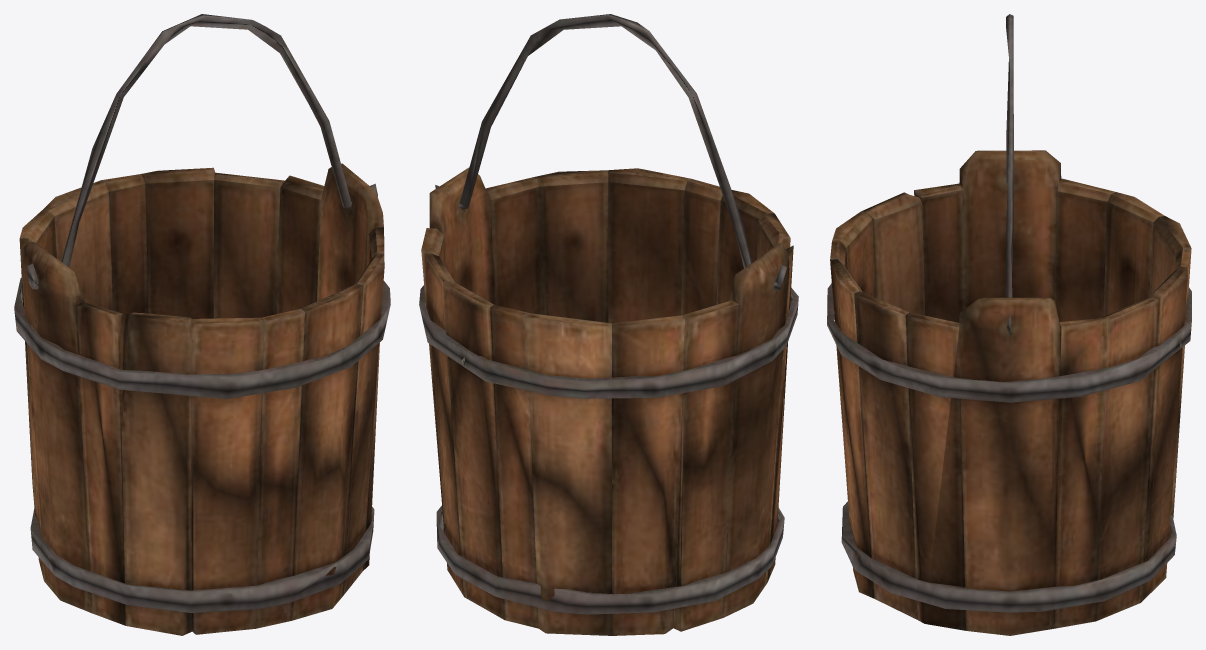
File: wooden_bucket_01.glb
The picture shows the model from 3 angles, left to right: view 1: azimuth 30°, elevation 25°; view 2: azimuth 150°, elevation 25°; view 3: azimuth 270°, elevation 25°; orthographic projection. The views are drawn at different scales.
Visible parts, largest first — view 1: wooden_bucket_01, wooden_bucket_01_handle; view 2: wooden_bucket_01, wooden_bucket_01_handle; view 3: wooden_bucket_01, wooden_bucket_01_handle.
Boxes of the visible parts, left/top/right/bottom form: wooden_bucket_01: left=14, top=163, right=390, bottom=635; wooden_bucket_01_handle: left=26, top=14, right=377, bottom=289; wooden_bucket_01: left=419, top=167, right=798, bottom=635; wooden_bucket_01_handle: left=435, top=14, right=786, bottom=290; wooden_bucket_01: left=827, top=150, right=1191, bottom=635; wooden_bucket_01_handle: left=1005, top=14, right=1013, bottom=336.
Bounding box in the file's own units: 0.3647 × 0.5478 × 0.3354.
Materials: 1 (1 with a texture image).
